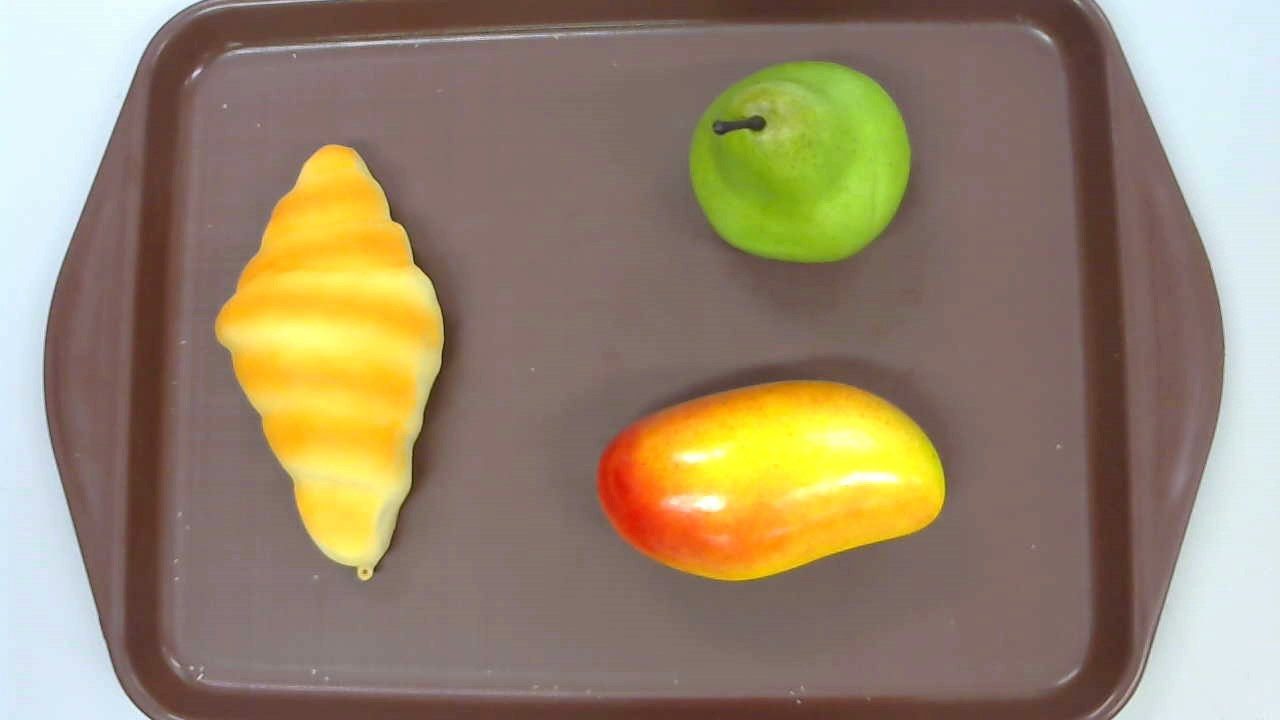croissant: (214, 145, 443, 580)
green pear: (689, 59, 910, 262)
red mango: (596, 380, 944, 584)
